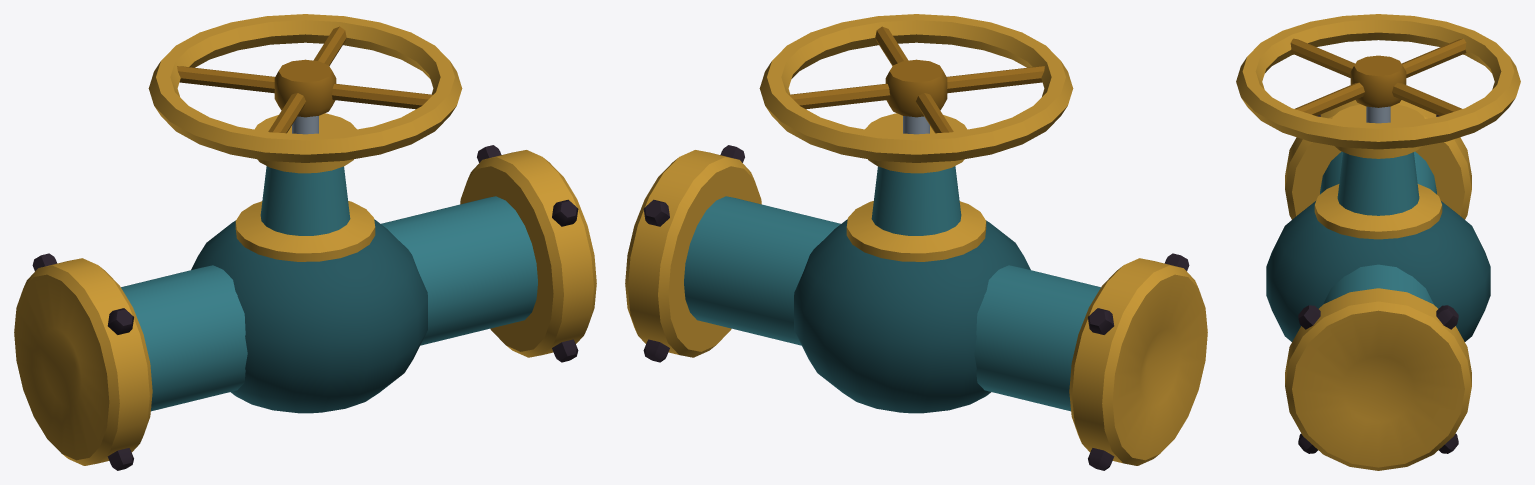
File: Valve_02.glb
The picture shows the model from 3 angles, left to right: view 1: azimuth 30°, elevation 25°; view 2: azimuth 150°, elevation 25°; view 3: azimuth 270°, elevation 25°; orthographic projection. The views are drawn at different scales.
Visible parts, largest first — view 1: Valve_02; view 2: Valve_02; view 3: Valve_02.
Boxes of the visible parts, x1=… form: Valve_02: x1=14, y1=14, x2=596, y2=470; Valve_02: x1=625, y1=14, x2=1207, y2=470; Valve_02: x1=1236, y1=14, x2=1520, y2=470.
Size of the model in its own units: 2.93 by 1.89 by 1.63.
